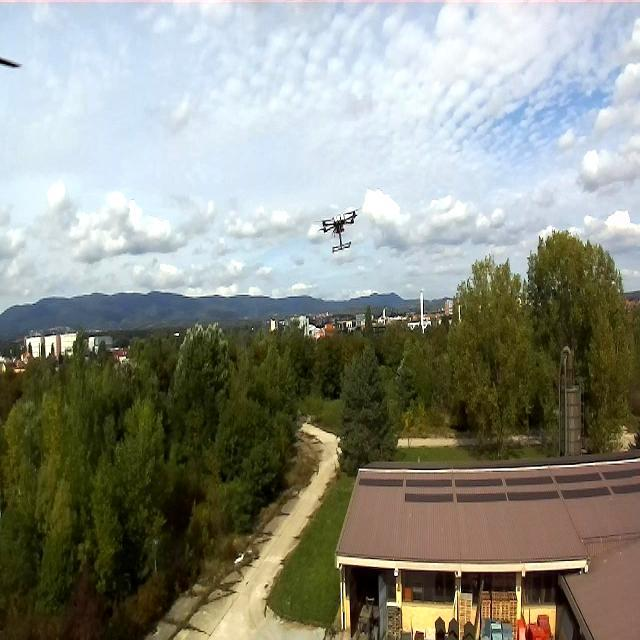drone: (320, 206, 358, 256)
